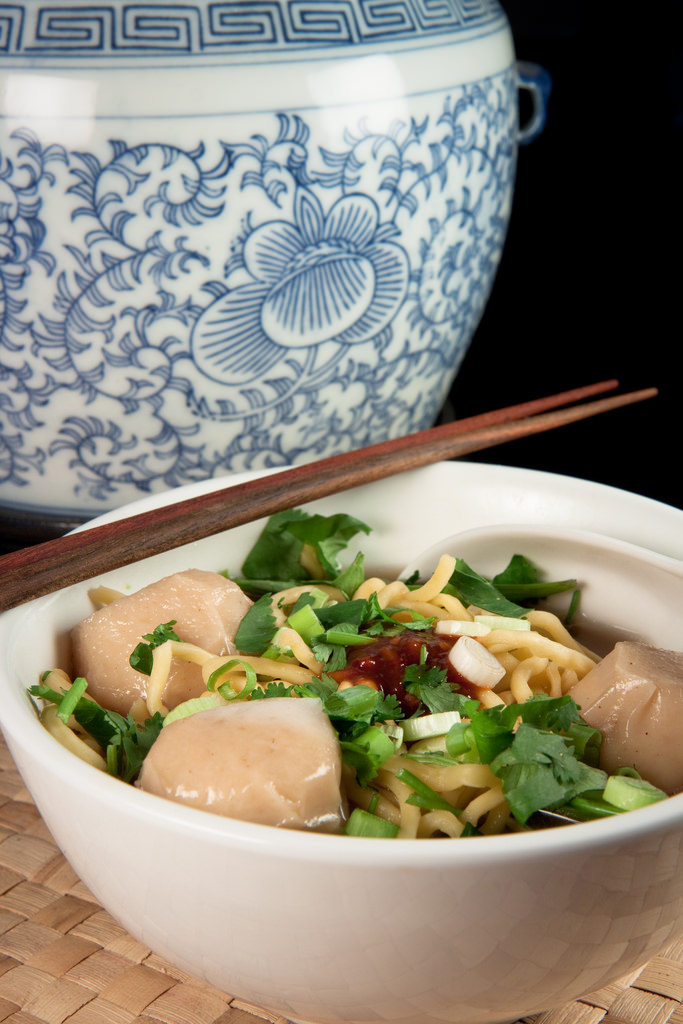plain spaghetti: (277, 575, 568, 807)
